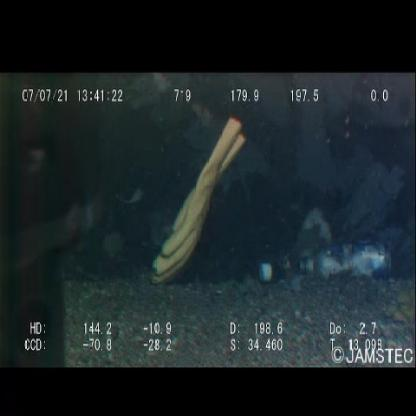Rác: (254, 246, 309, 298)
